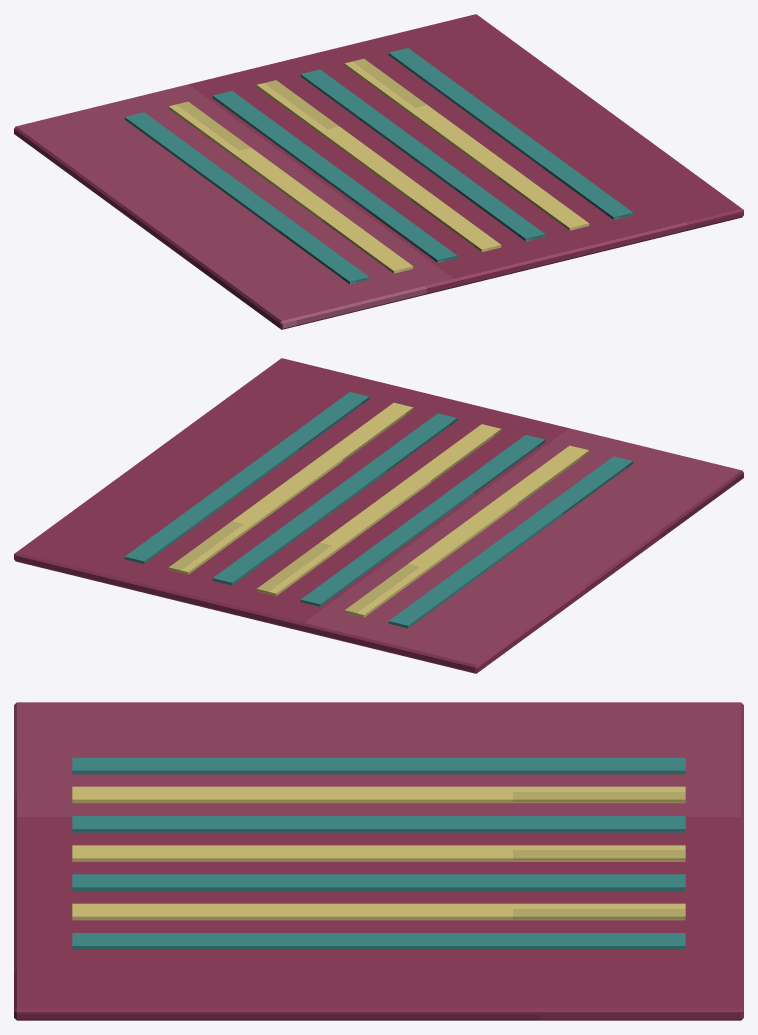
File: arcade_carpet_circle.glb
3 renders of one model, top to bottom at view 1: azimuth 30°, elevation 25°; view 2: azimuth 150°, elevation 25°; view 3: azimuth 270°, elevation 25°, orthographic. The views are drawn at different scales.
Parts seen in each view (by area): view 1: CarpetBase, PixelStripe_2, PixelStripe_1, PixelStripe_3, PixelStripe_-2, PixelStripe_-3, PixelStripe_0, PixelStripe_-1; view 2: CarpetBase, PixelStripe_2, PixelStripe_1, PixelStripe_3, PixelStripe_-2, PixelStripe_-3, PixelStripe_0, PixelStripe_-1; view 3: CarpetBase, PixelStripe_2, PixelStripe_-2, PixelStripe_-3, PixelStripe_0, PixelStripe_1, PixelStripe_3, PixelStripe_-1.
Boxes of the visible parts, box(x1,y1,x2,y2) form: CarpetBase: box(14, 14, 743, 329); PixelStripe_2: box(344, 58, 589, 230); PixelStripe_1: box(300, 69, 545, 241); PixelStripe_3: box(388, 48, 633, 219); PixelStripe_-2: box(168, 101, 413, 273); PixelStripe_-3: box(124, 112, 369, 284); PixelStripe_0: box(256, 80, 501, 251); PixelStripe_-1: box(212, 91, 457, 262); CarpetBase: box(14, 358, 743, 673); PixelStripe_2: box(168, 402, 413, 574); PixelStripe_1: box(212, 413, 457, 585); PixelStripe_3: box(124, 392, 369, 563); PixelStripe_-2: box(344, 445, 589, 617); PixelStripe_-3: box(388, 456, 633, 628); PixelStripe_0: box(256, 424, 501, 595); PixelStripe_-1: box(300, 435, 545, 606); CarpetBase: box(14, 702, 743, 1020); PixelStripe_2: box(72, 903, 685, 920); PixelStripe_-2: box(72, 786, 685, 803); PixelStripe_-3: box(72, 757, 685, 774); PixelStripe_0: box(72, 845, 685, 861); PixelStripe_1: box(72, 874, 685, 890); PixelStripe_3: box(72, 933, 685, 949); PixelStripe_-1: box(72, 816, 685, 832).
Size of the model in its own units: 1.9 by 0.0455 by 1.9.
1 material, 1 textured.
